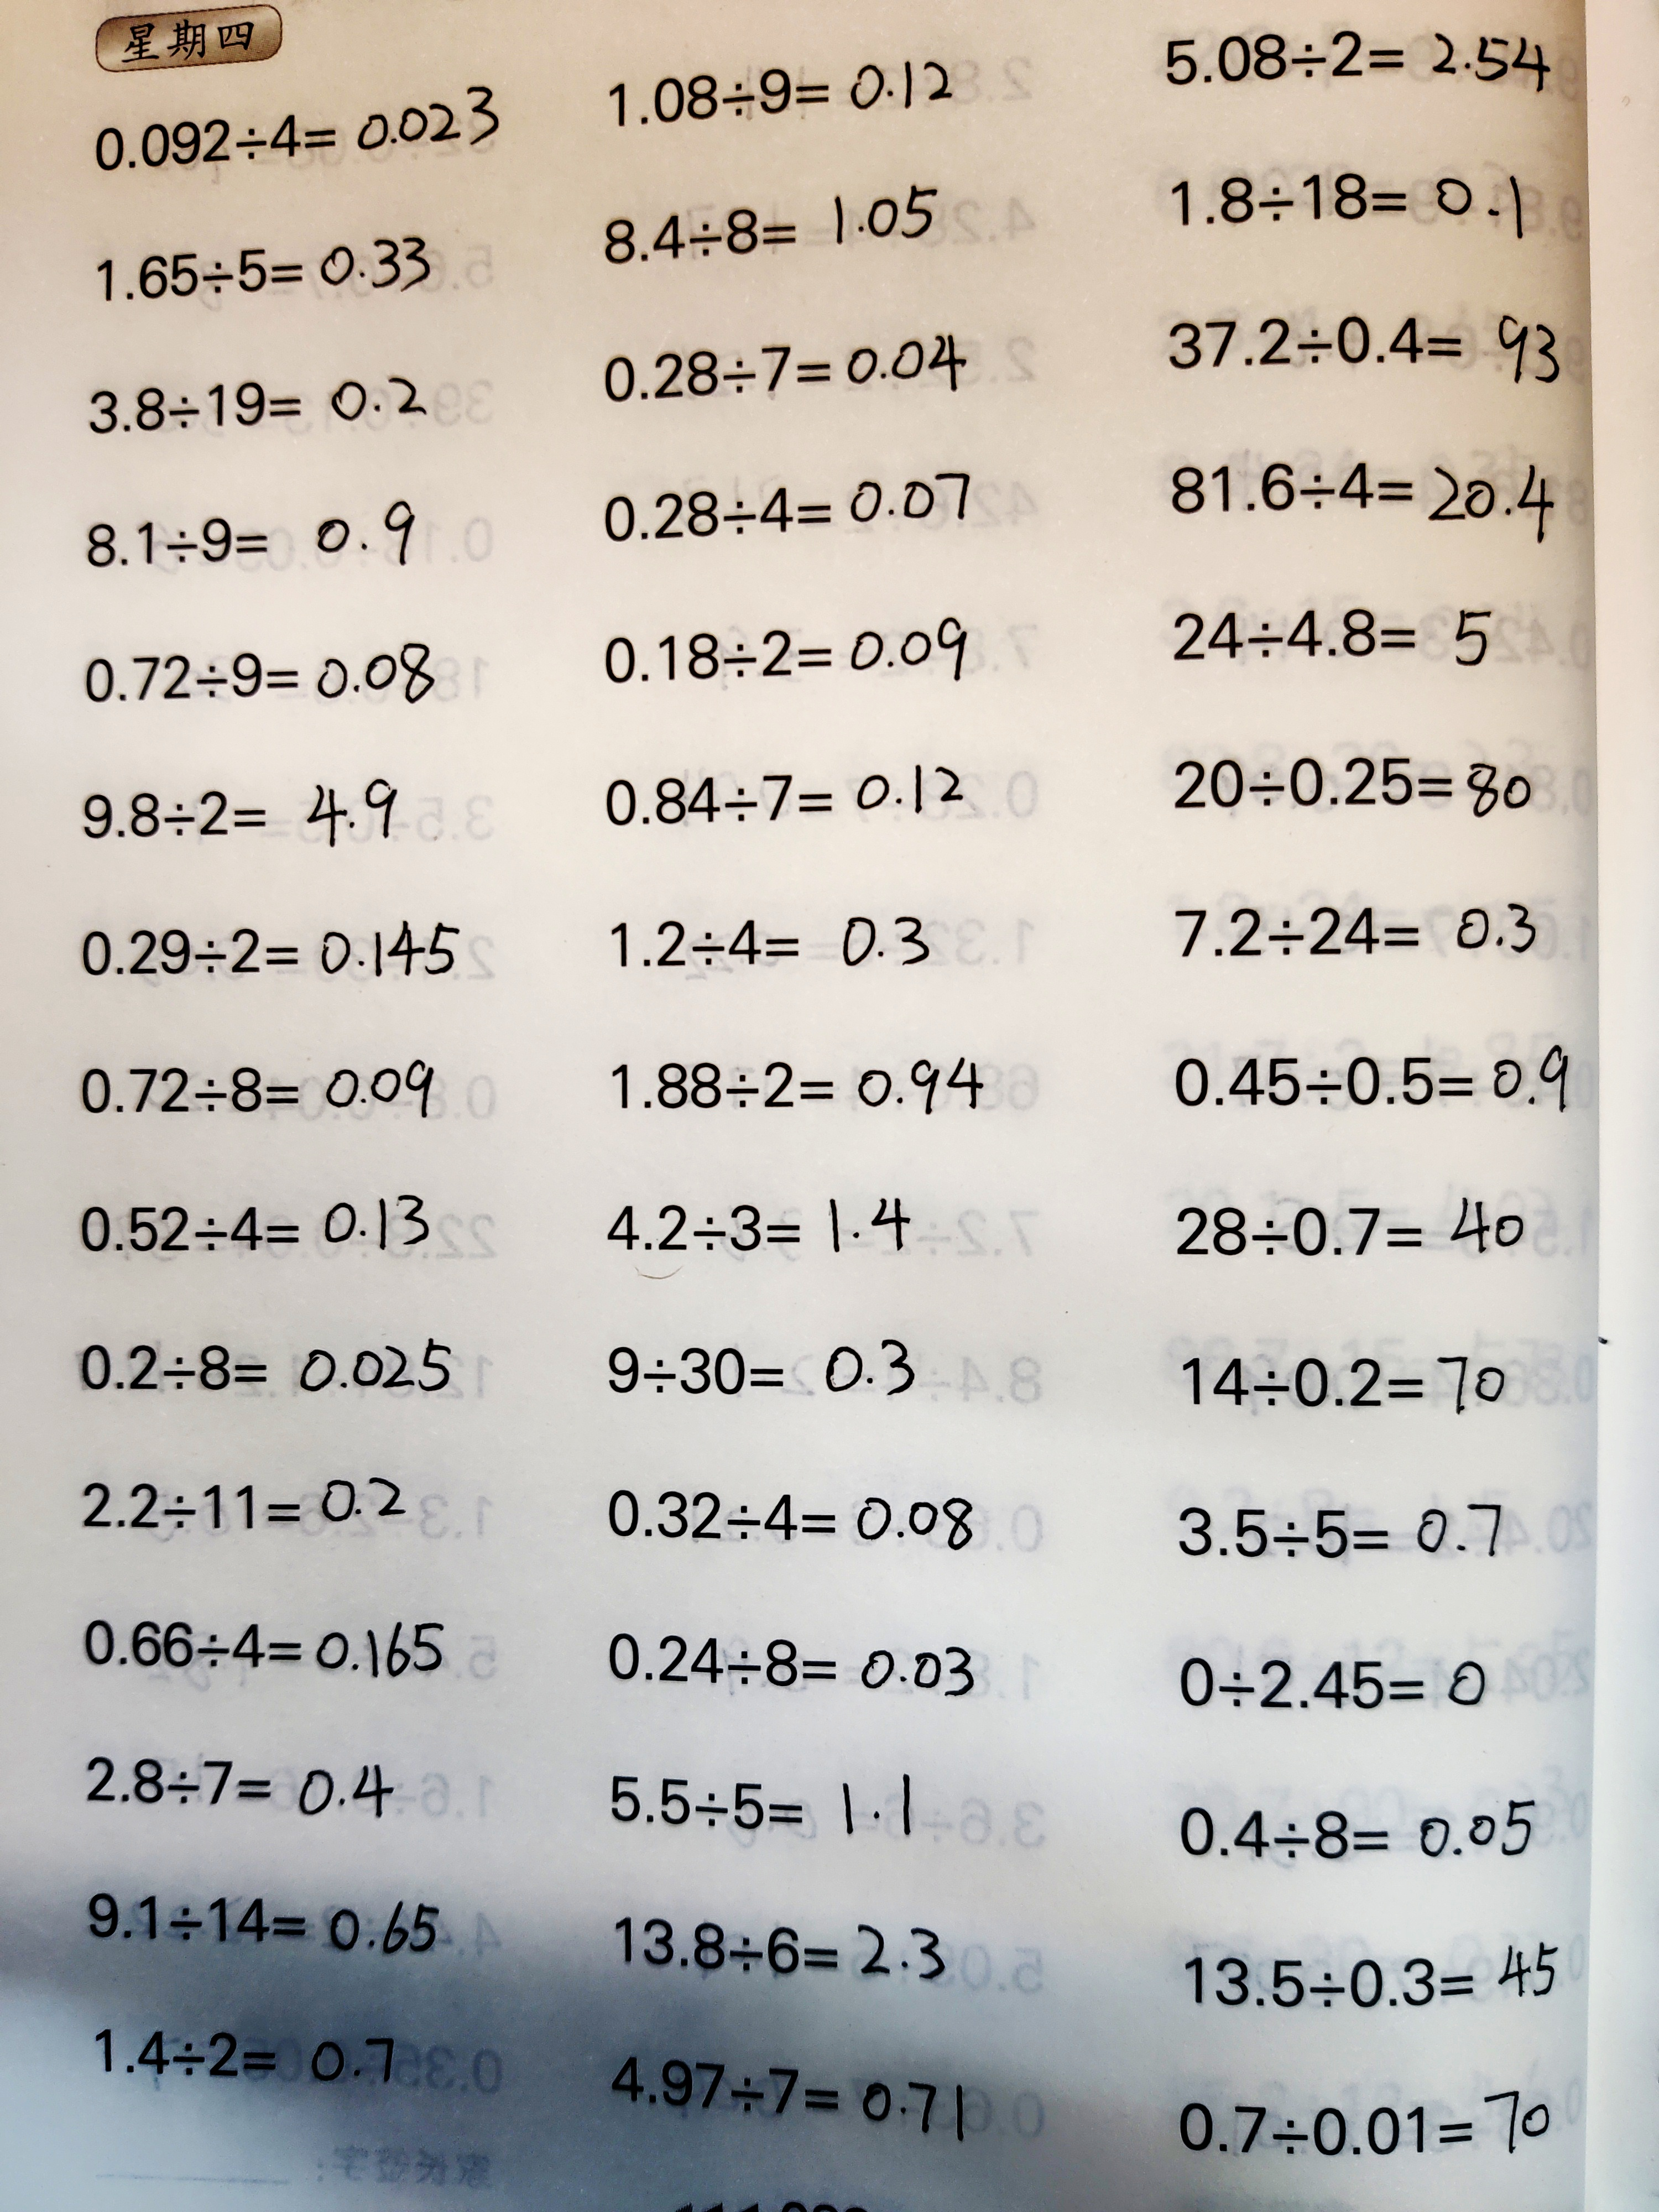equation: (603, 2029, 986, 2168), (1152, 885, 1584, 993), (1155, 2062, 1560, 2175), (580, 596, 983, 704), (1161, 148, 1539, 261), (78, 78, 511, 176), (1155, 1033, 1586, 1130), (1155, 300, 1563, 399), (1152, 449, 1556, 549), (594, 455, 978, 557), (587, 1042, 990, 1137), (1150, 17, 1560, 111), (598, 320, 978, 421), (599, 1465, 978, 1566), (66, 899, 472, 993), (63, 759, 415, 866), (75, 1876, 465, 1972), (78, 1996, 416, 2106), (68, 1038, 441, 1137), (1164, 587, 1506, 695), (1182, 1928, 1568, 2022), (66, 1604, 455, 1696), (1162, 1345, 1523, 1442), (1161, 742, 1539, 834), (586, 1620, 978, 1709), (78, 488, 420, 589), (606, 185, 958, 282), (592, 1895, 948, 1991), (1150, 1789, 1551, 1872), (56, 1181, 446, 1266), (1164, 1188, 1532, 1278), (61, 1336, 472, 1416), (579, 754, 978, 836), (1150, 1637, 1502, 1730), (594, 902, 950, 991), (1162, 1496, 1516, 1585), (73, 631, 439, 716), (594, 56, 971, 138), (87, 223, 444, 308), (78, 1731, 394, 1827), (73, 366, 439, 448), (75, 1460, 423, 1543), (599, 1322, 920, 1411), (598, 1764, 920, 1848), (587, 1190, 927, 1264)
